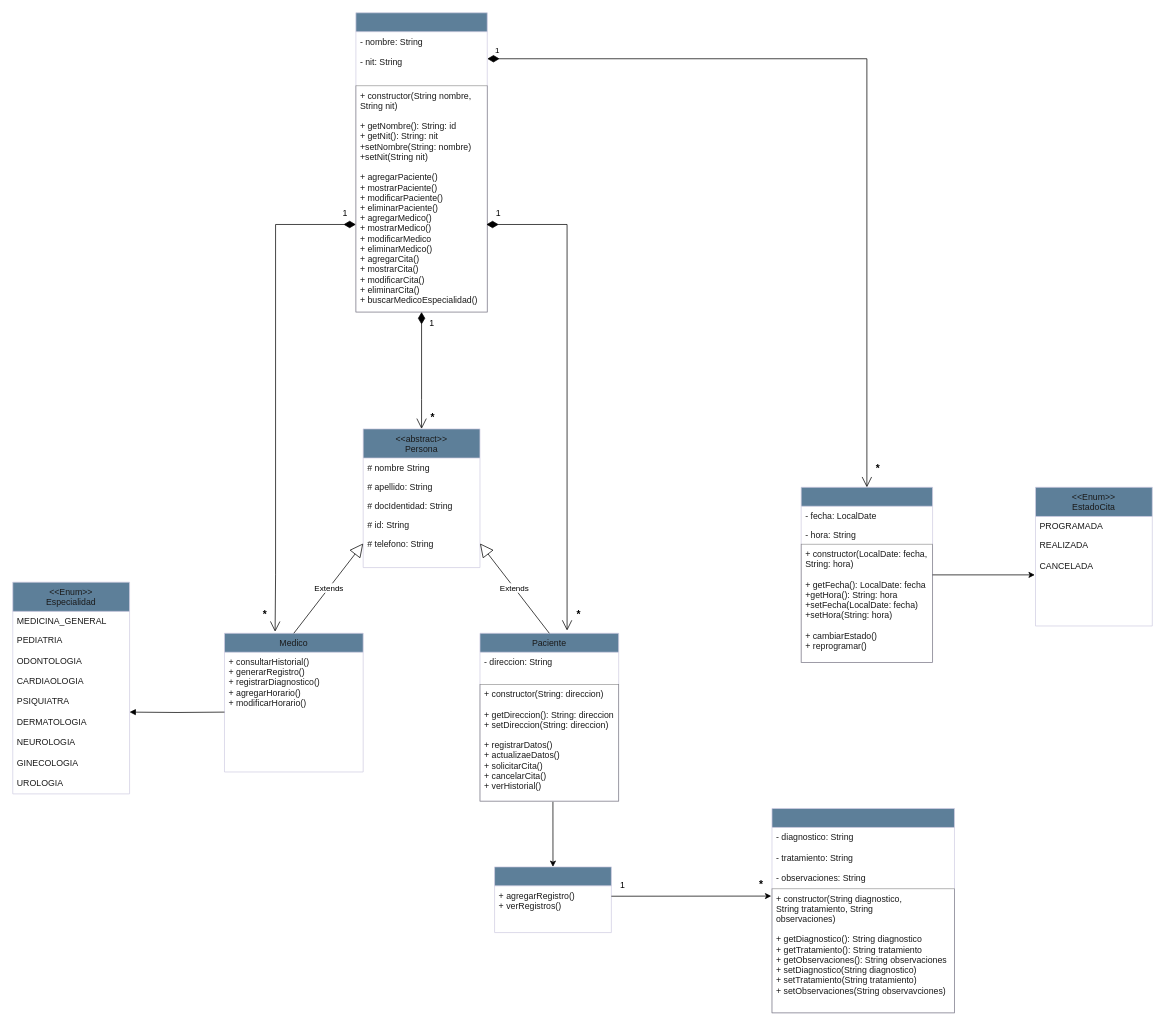
Image size: 1165x1028. Some labels were removed from this diagram. Each missing label, with the box of its shape:
Cita: (800, 487, 933, 662)
HistorialMedico: (494, 866, 611, 933)
Hospital: (355, 12, 487, 312)
RegistroMedico: (771, 808, 954, 1013)
